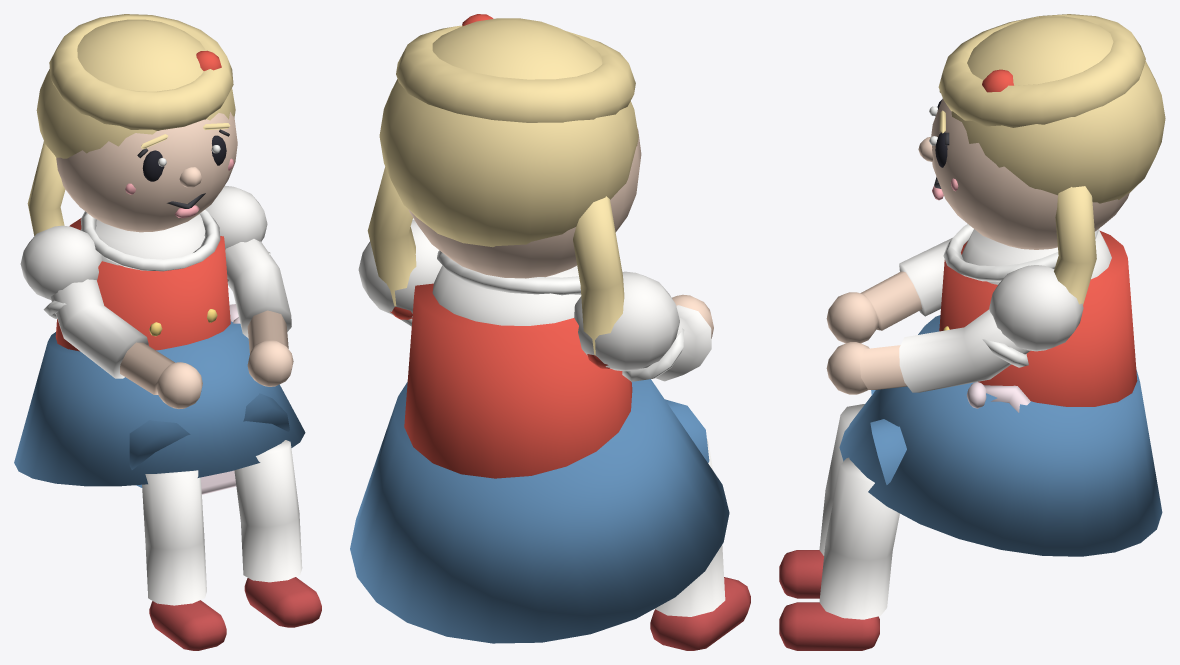
File: driver_vroni.glb
The picture shows the model from 3 angles, left to right: view 1: azimuth 30°, elevation 25°; view 2: azimuth 150°, elevation 25°; view 3: azimuth 270°, elevation 25°; orthographic projection. The views are drawn at different scales.
Parts seen in each view (by area): view 1: Vroni; view 2: Vroni; view 3: Vroni.
Part boxes in pixels (x1,y1,x2,y2): Vroni: (14, 14, 321, 650); Vroni: (350, 14, 750, 650); Vroni: (779, 14, 1165, 650).
Bounding box in the file's own units: 1.12 × 2.21 × 1.31.
